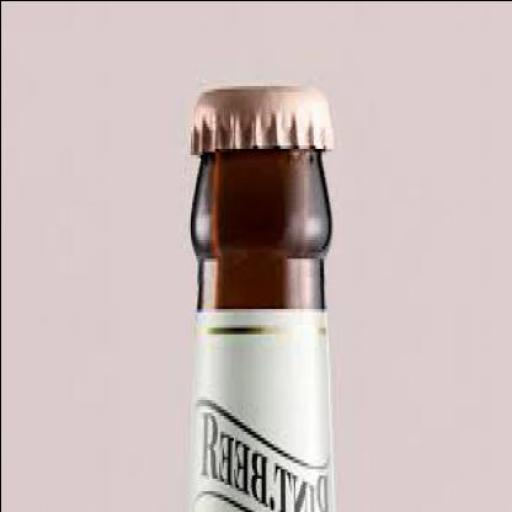glass: (189, 147, 334, 509)
metal: (189, 81, 334, 148)
